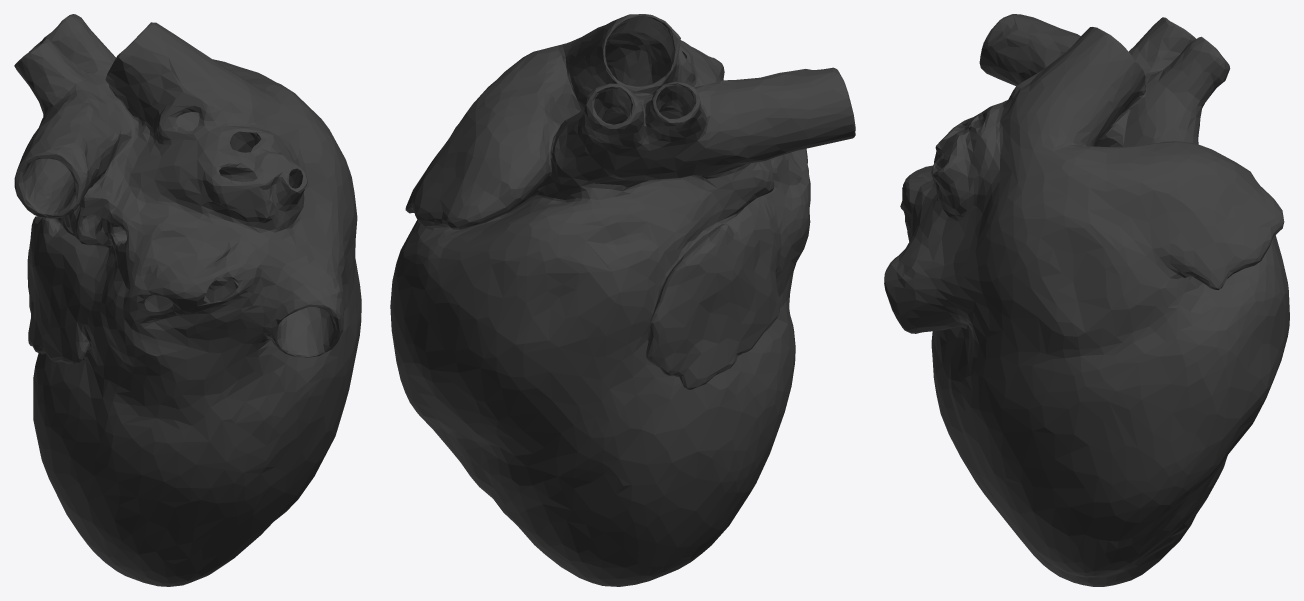
The model's file is heart_LP.glb.
3 renders of one model, left to right at view 1: azimuth 30°, elevation 25°; view 2: azimuth 150°, elevation 25°; view 3: azimuth 270°, elevation 25°, orthographic. The views are drawn at different scales.
Parts seen in each view (by area): view 1: heart_LP; view 2: heart_LP; view 3: heart_LP.
Part boxes in pixels (x1=…): heart_LP: x1=14, y1=14, x2=361, y2=586; heart_LP: x1=390, y1=14, x2=855, y2=586; heart_LP: x1=884, y1=14, x2=1289, y2=586.
Bounding box in the file's own units: 0.3232 × 0.4565 × 0.3135.
Materials: 1 (1 with a texture image).
